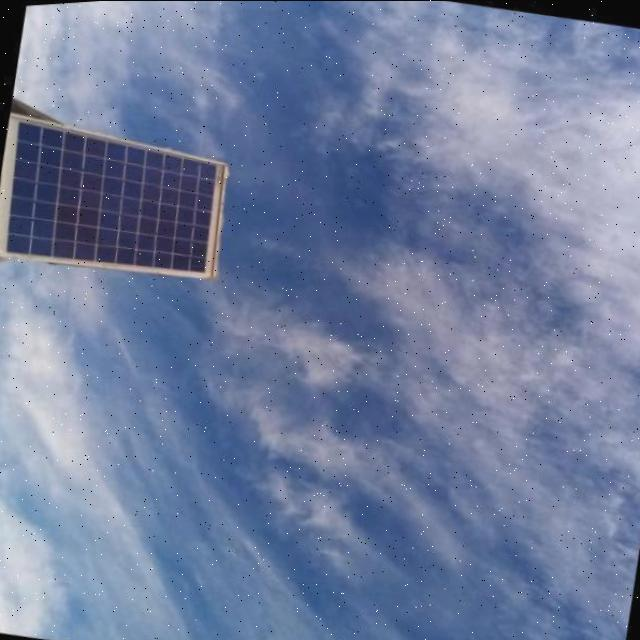Normal Solar Panel: (1, 92, 240, 290)
